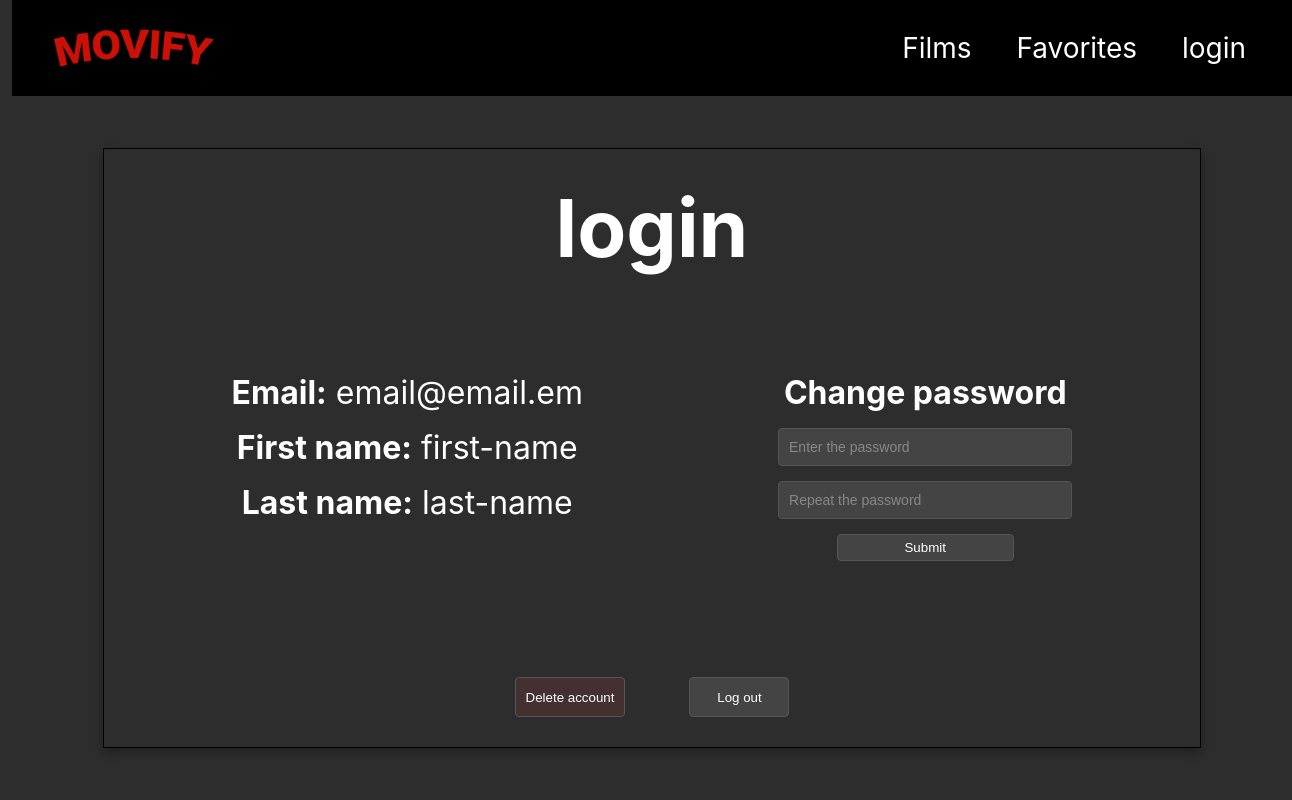
Scenario: Profile Component › displays error on password change failure with code 500
The image size is (1292, 800).
Type "Pass12!" into the password field with placeholder "Enter the password".
click(925, 447); type("Pass12!")  # box [778,428,1072,466]
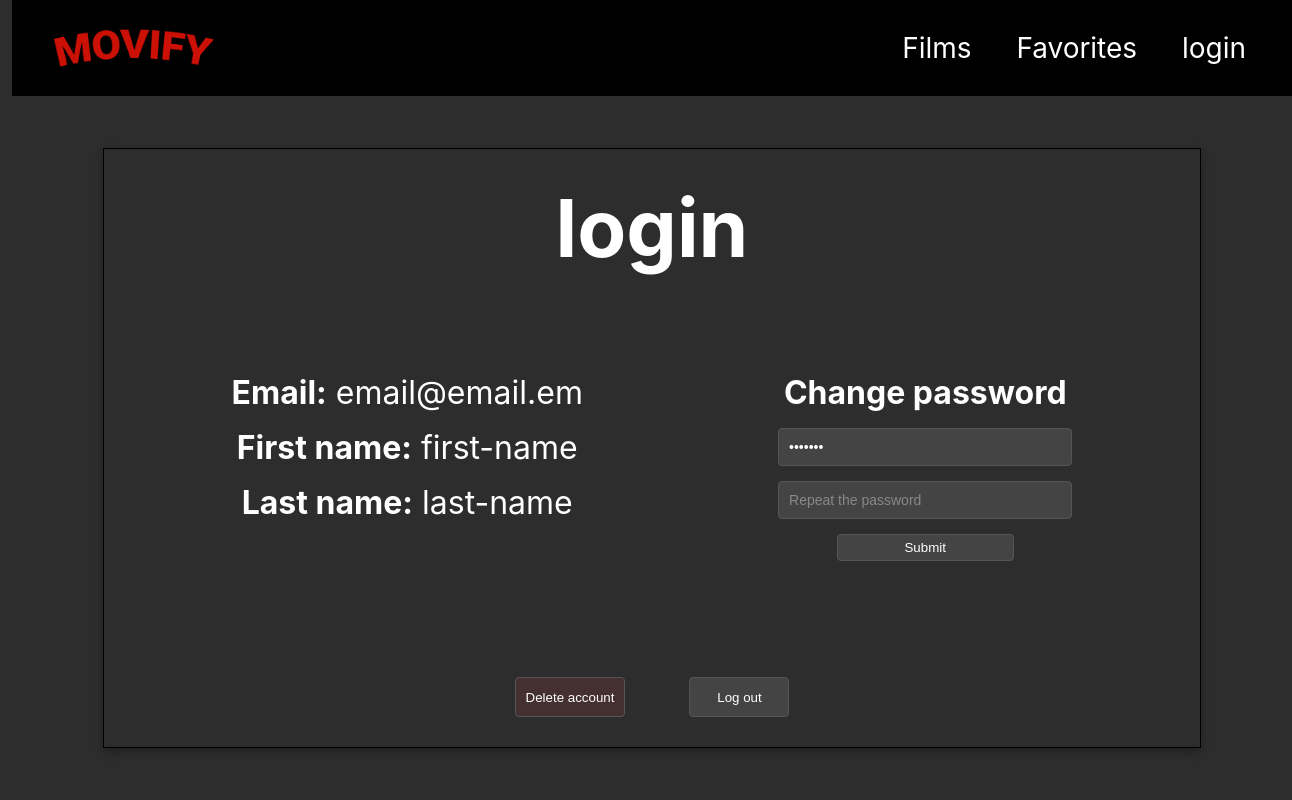
Type "Pass12!" into the password field with placeholder "Repeat the password".
click(925, 500); type("Pass12!")  # box [778,481,1072,519]
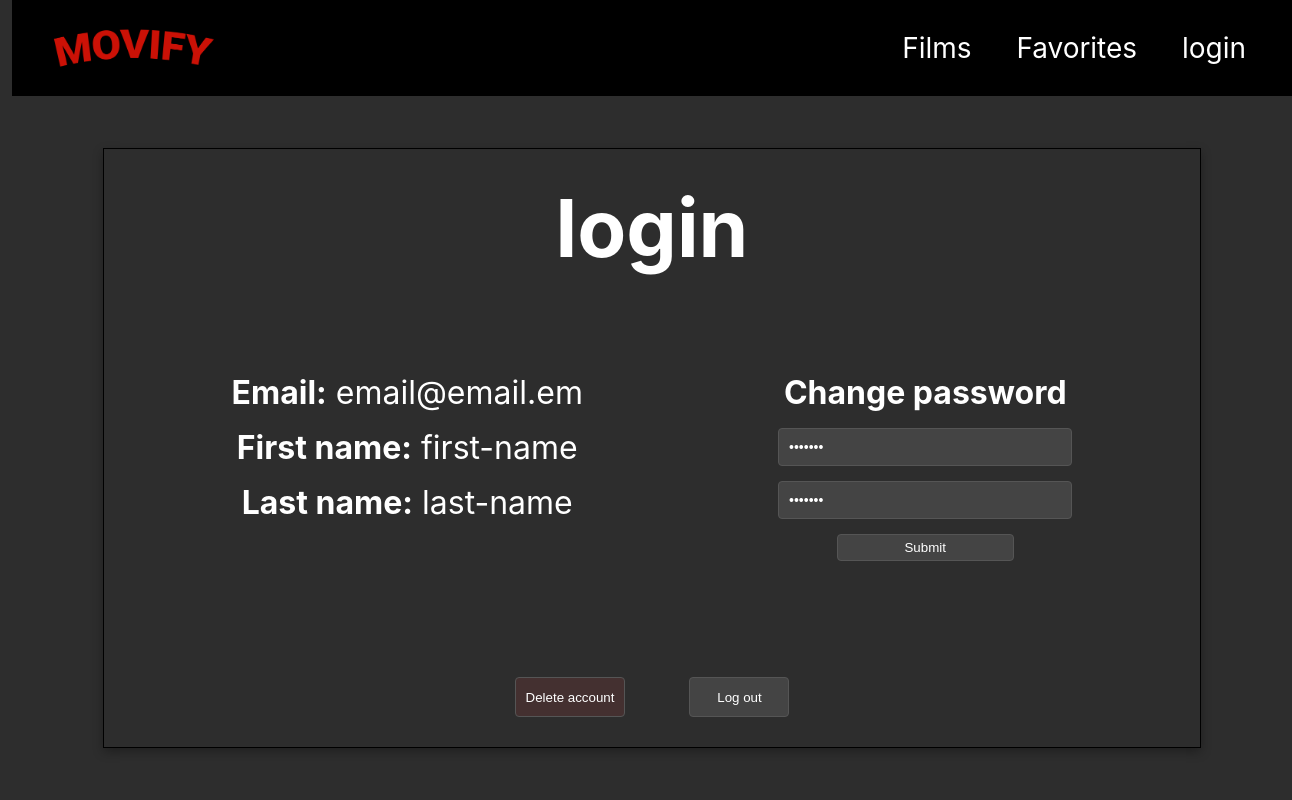
Click the button "Submit".
click(925, 548)  # box [837,534,1014,561]
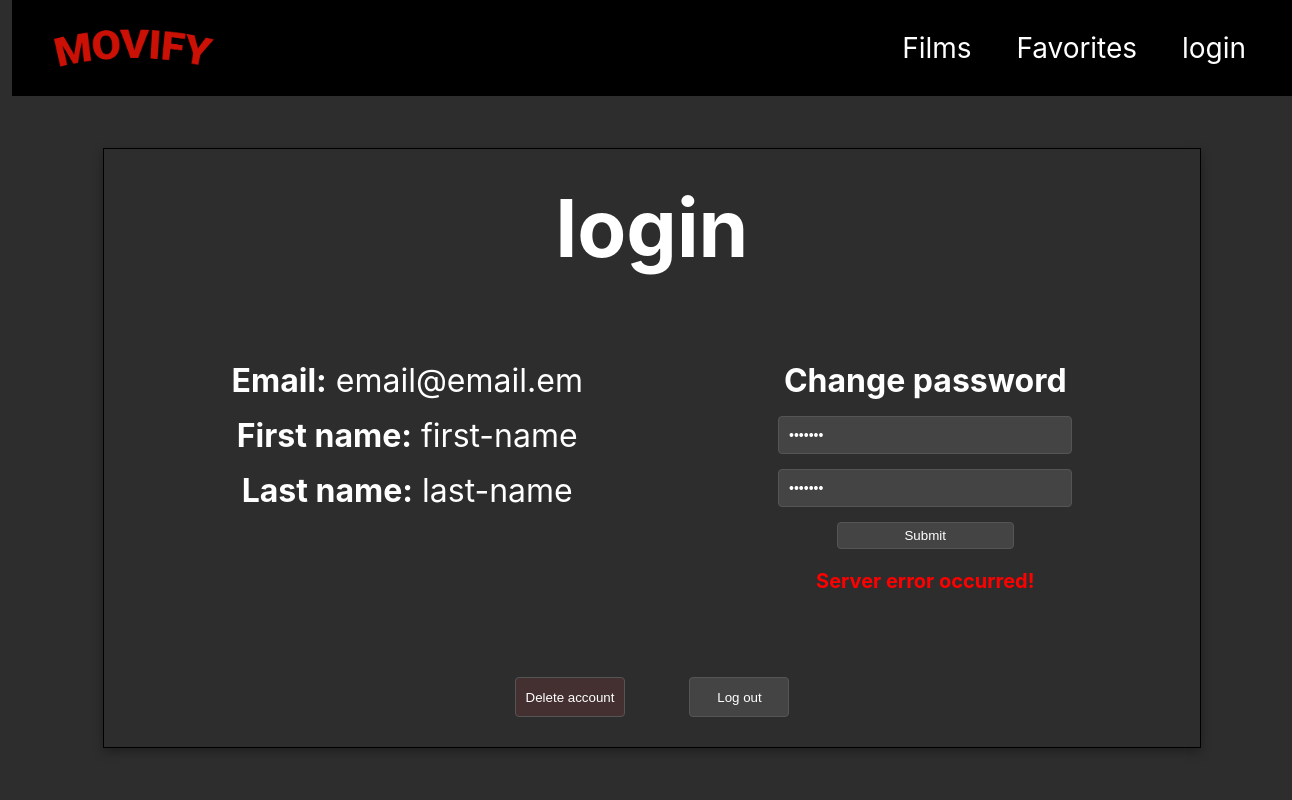
Now the text "Server error occurred!" is shown, box [816,569,1034,593]
